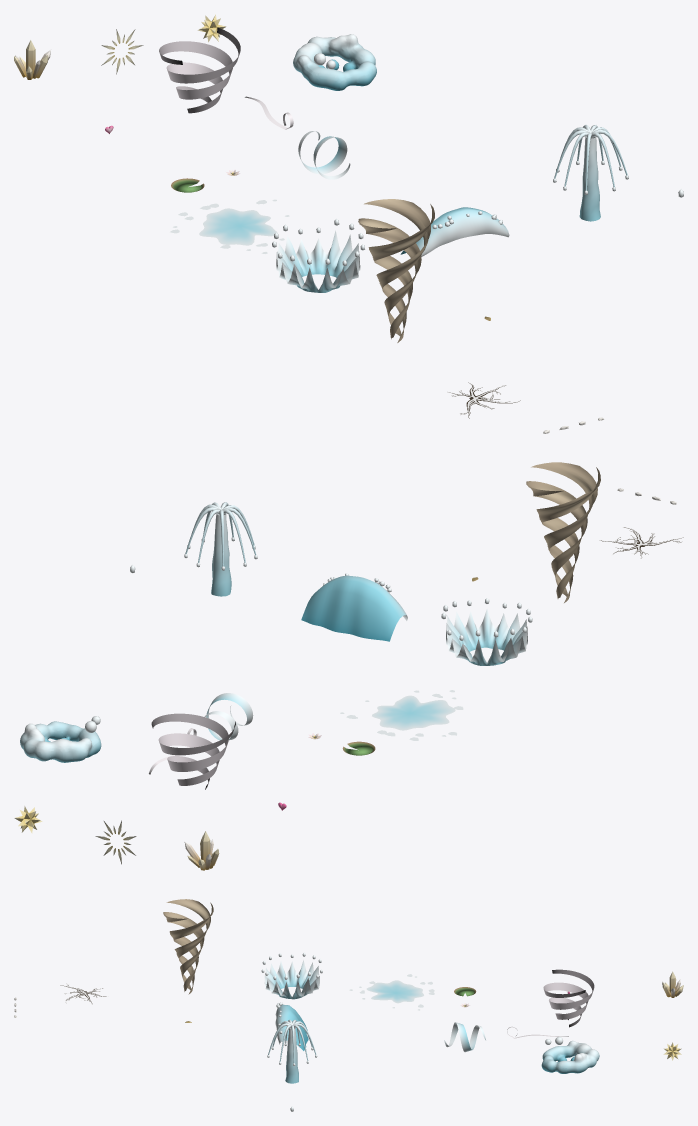
File: impacto_fx.glb
The picture shows the model from 3 angles, top to bottom: view 1: azimuth 30°, elevation 25°; view 2: azimuth 150°, elevation 25°; view 3: azimuth 270°, elevation 25°; orthographic projection. The views are drawn at different scales.
Parts seen in each view (by area): view 1: Redemoinho, Coroa, Nuvem, Vento, Jato, Espuma, Onda, Espiral, Cristais; view 2: Onda, Redemoinho, Coroa, Vento, Nuvem, Jato, Espuma, Espiral, Cristais; view 3: Redemoinho, Coroa, Nuvem, Vento, Jato, Espuma, Onda, Espiral.
Boxes of the visible parts, box(x1,y1,x2,y2) form: Redemoinho: box(358, 199, 434, 342); Coroa: box(272, 218, 364, 292); Nuvem: box(293, 34, 376, 90); Vento: box(159, 27, 240, 113); Jato: box(553, 125, 628, 221); Espuma: box(170, 199, 289, 253); Onda: box(400, 207, 509, 256); Espiral: box(298, 131, 350, 179); Cristais: box(14, 40, 50, 79); Onda: box(301, 573, 407, 641); Redemoinho: box(526, 462, 600, 602); Coroa: box(441, 598, 532, 665); Vento: box(151, 713, 235, 789); Nuvem: box(20, 716, 101, 762); Jato: box(184, 502, 257, 596); Espuma: box(340, 690, 463, 740); Espiral: box(204, 693, 253, 740); Cristais: box(184, 831, 219, 870); Redemoinho: box(163, 899, 213, 994); Coroa: box(261, 952, 322, 999); Nuvem: box(541, 1037, 599, 1073); Vento: box(543, 969, 594, 1027); Jato: box(267, 1019, 317, 1083); Espuma: box(349, 974, 434, 1010); Onda: box(275, 1002, 308, 1050); Espiral: box(444, 1022, 485, 1052).
Bounding box in the file's own units: 9.36 × 3.21 × 19.37.
